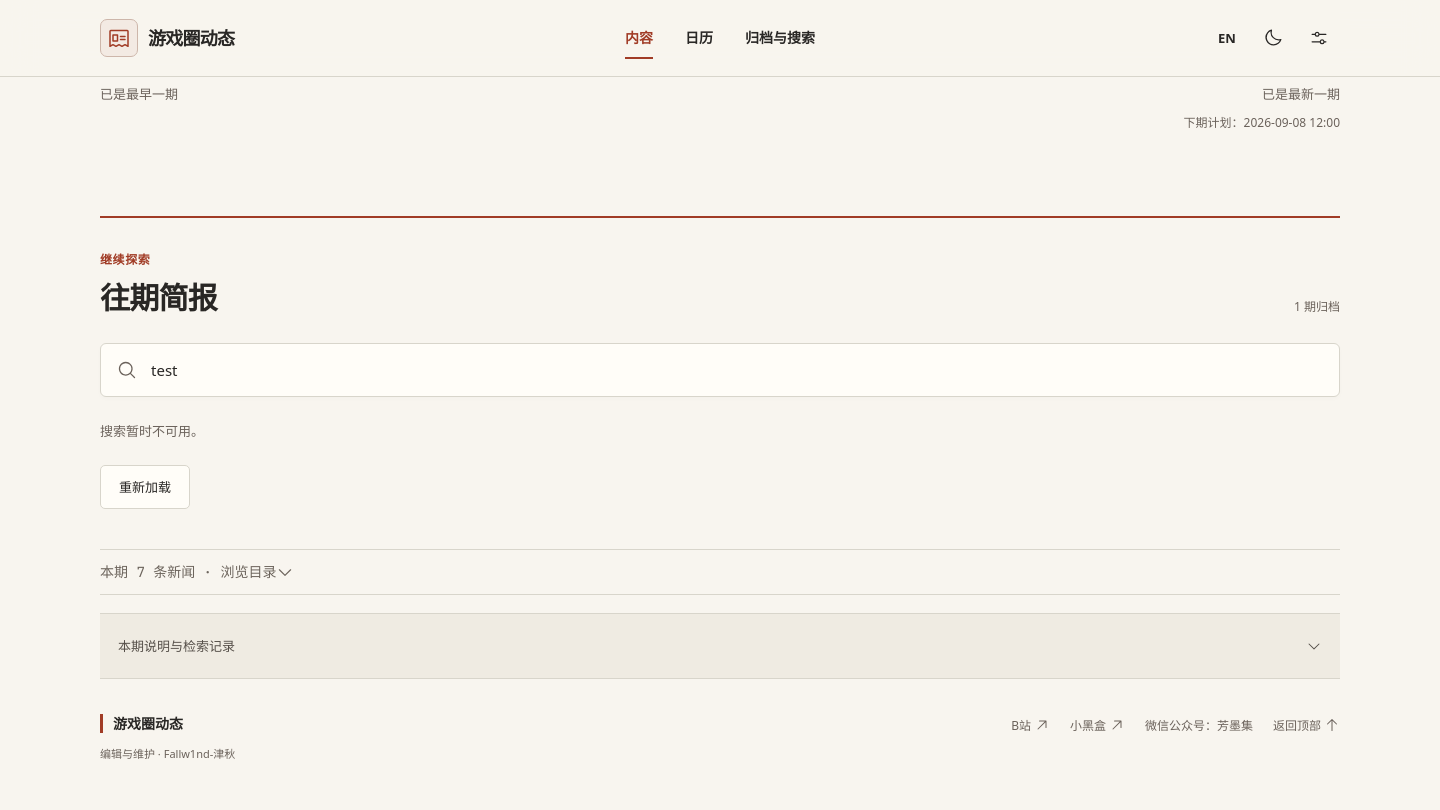
Test: ReadingApp request recovery › retries a failed search without refetching or hiding readable content
This screenshot has width=1440, height=810.
(page scrolled)
Click the button "重新加载": [145, 487] box 100,465 -> 190,509
(page scrolled)
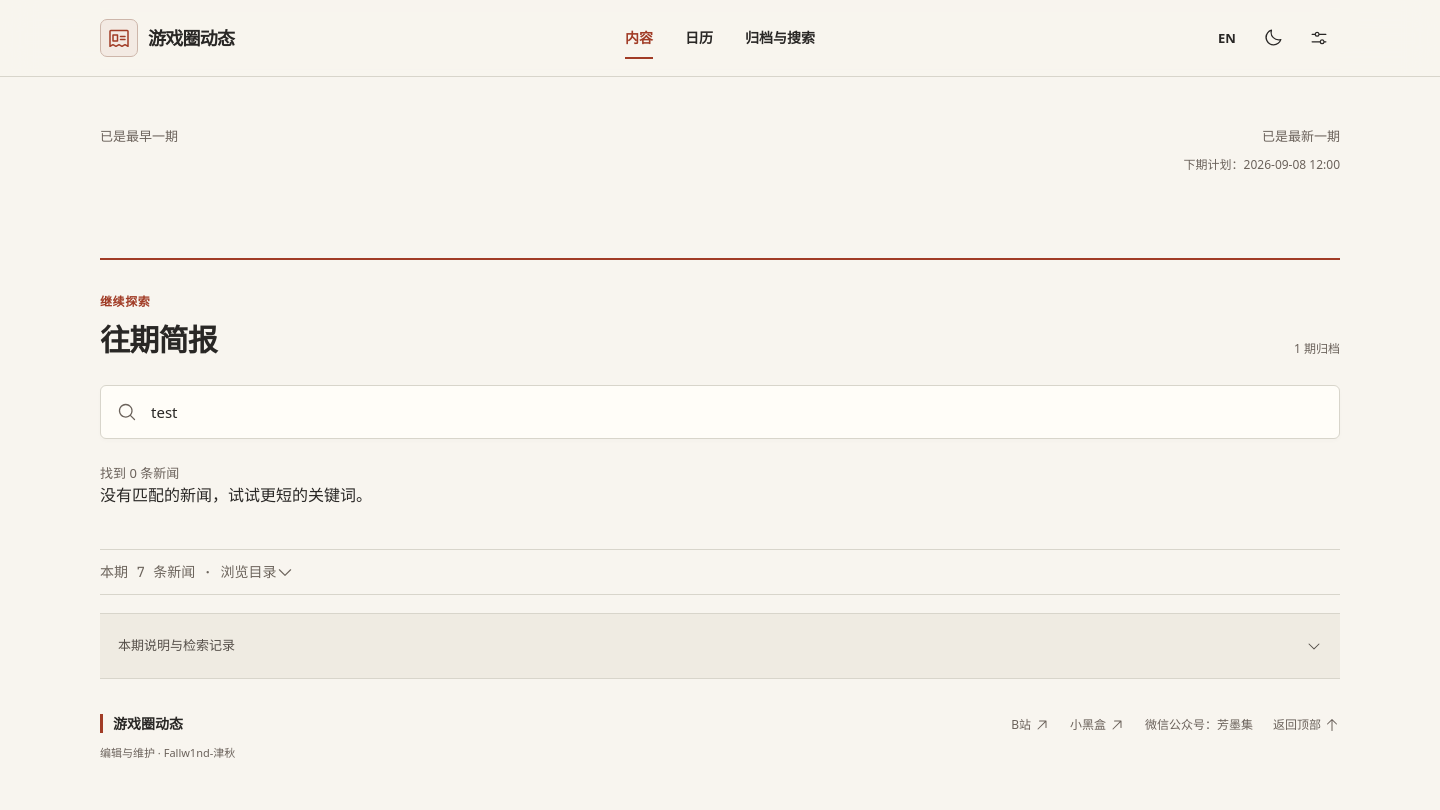
Expected: the text "搜索暂时不可用" is gone
